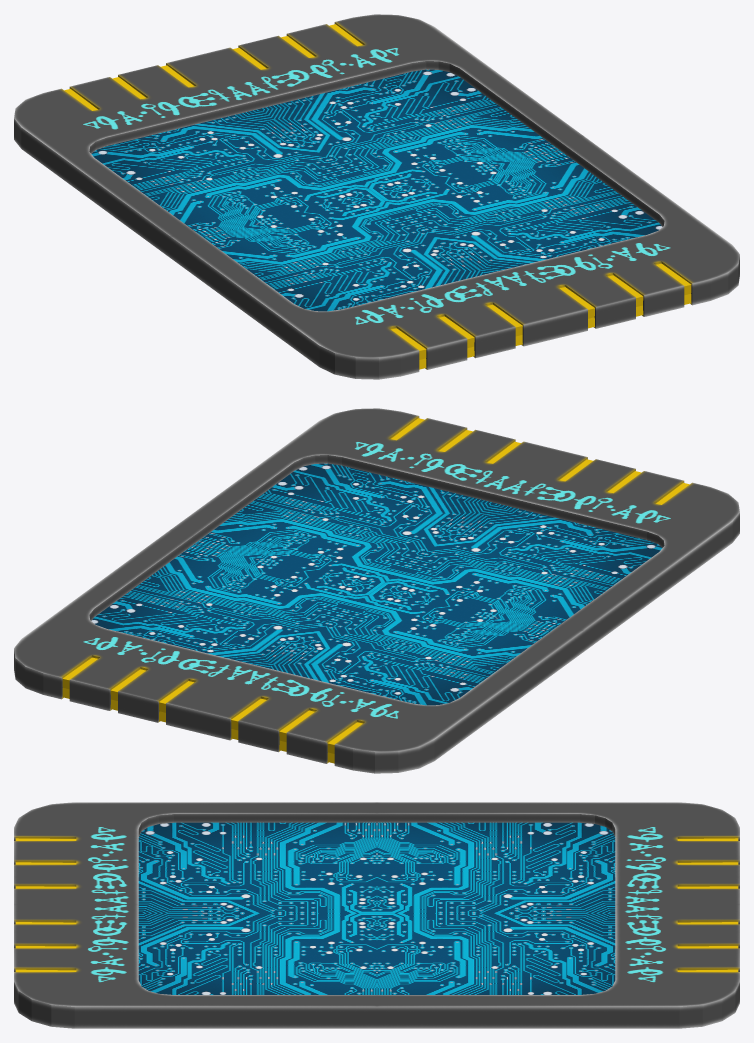
The model's file is Card.obj.
The picture shows the model from 3 angles, top to bottom: view 1: azimuth 30°, elevation 25°; view 2: azimuth 150°, elevation 25°; view 3: azimuth 270°, elevation 25°; orthographic projection.
Visible parts, largest first — view 1: Plane_Plane.001; view 2: Plane_Plane.001; view 3: Plane_Plane.001.
Part boxes in pixels (x1,y1,x2,y2): Plane_Plane.001: (14,14,739,379); Plane_Plane.001: (14,408,739,773); Plane_Plane.001: (14,802,739,1028).
Bounding box in the file's own units: 0.2 × 0.01 × 0.3.
